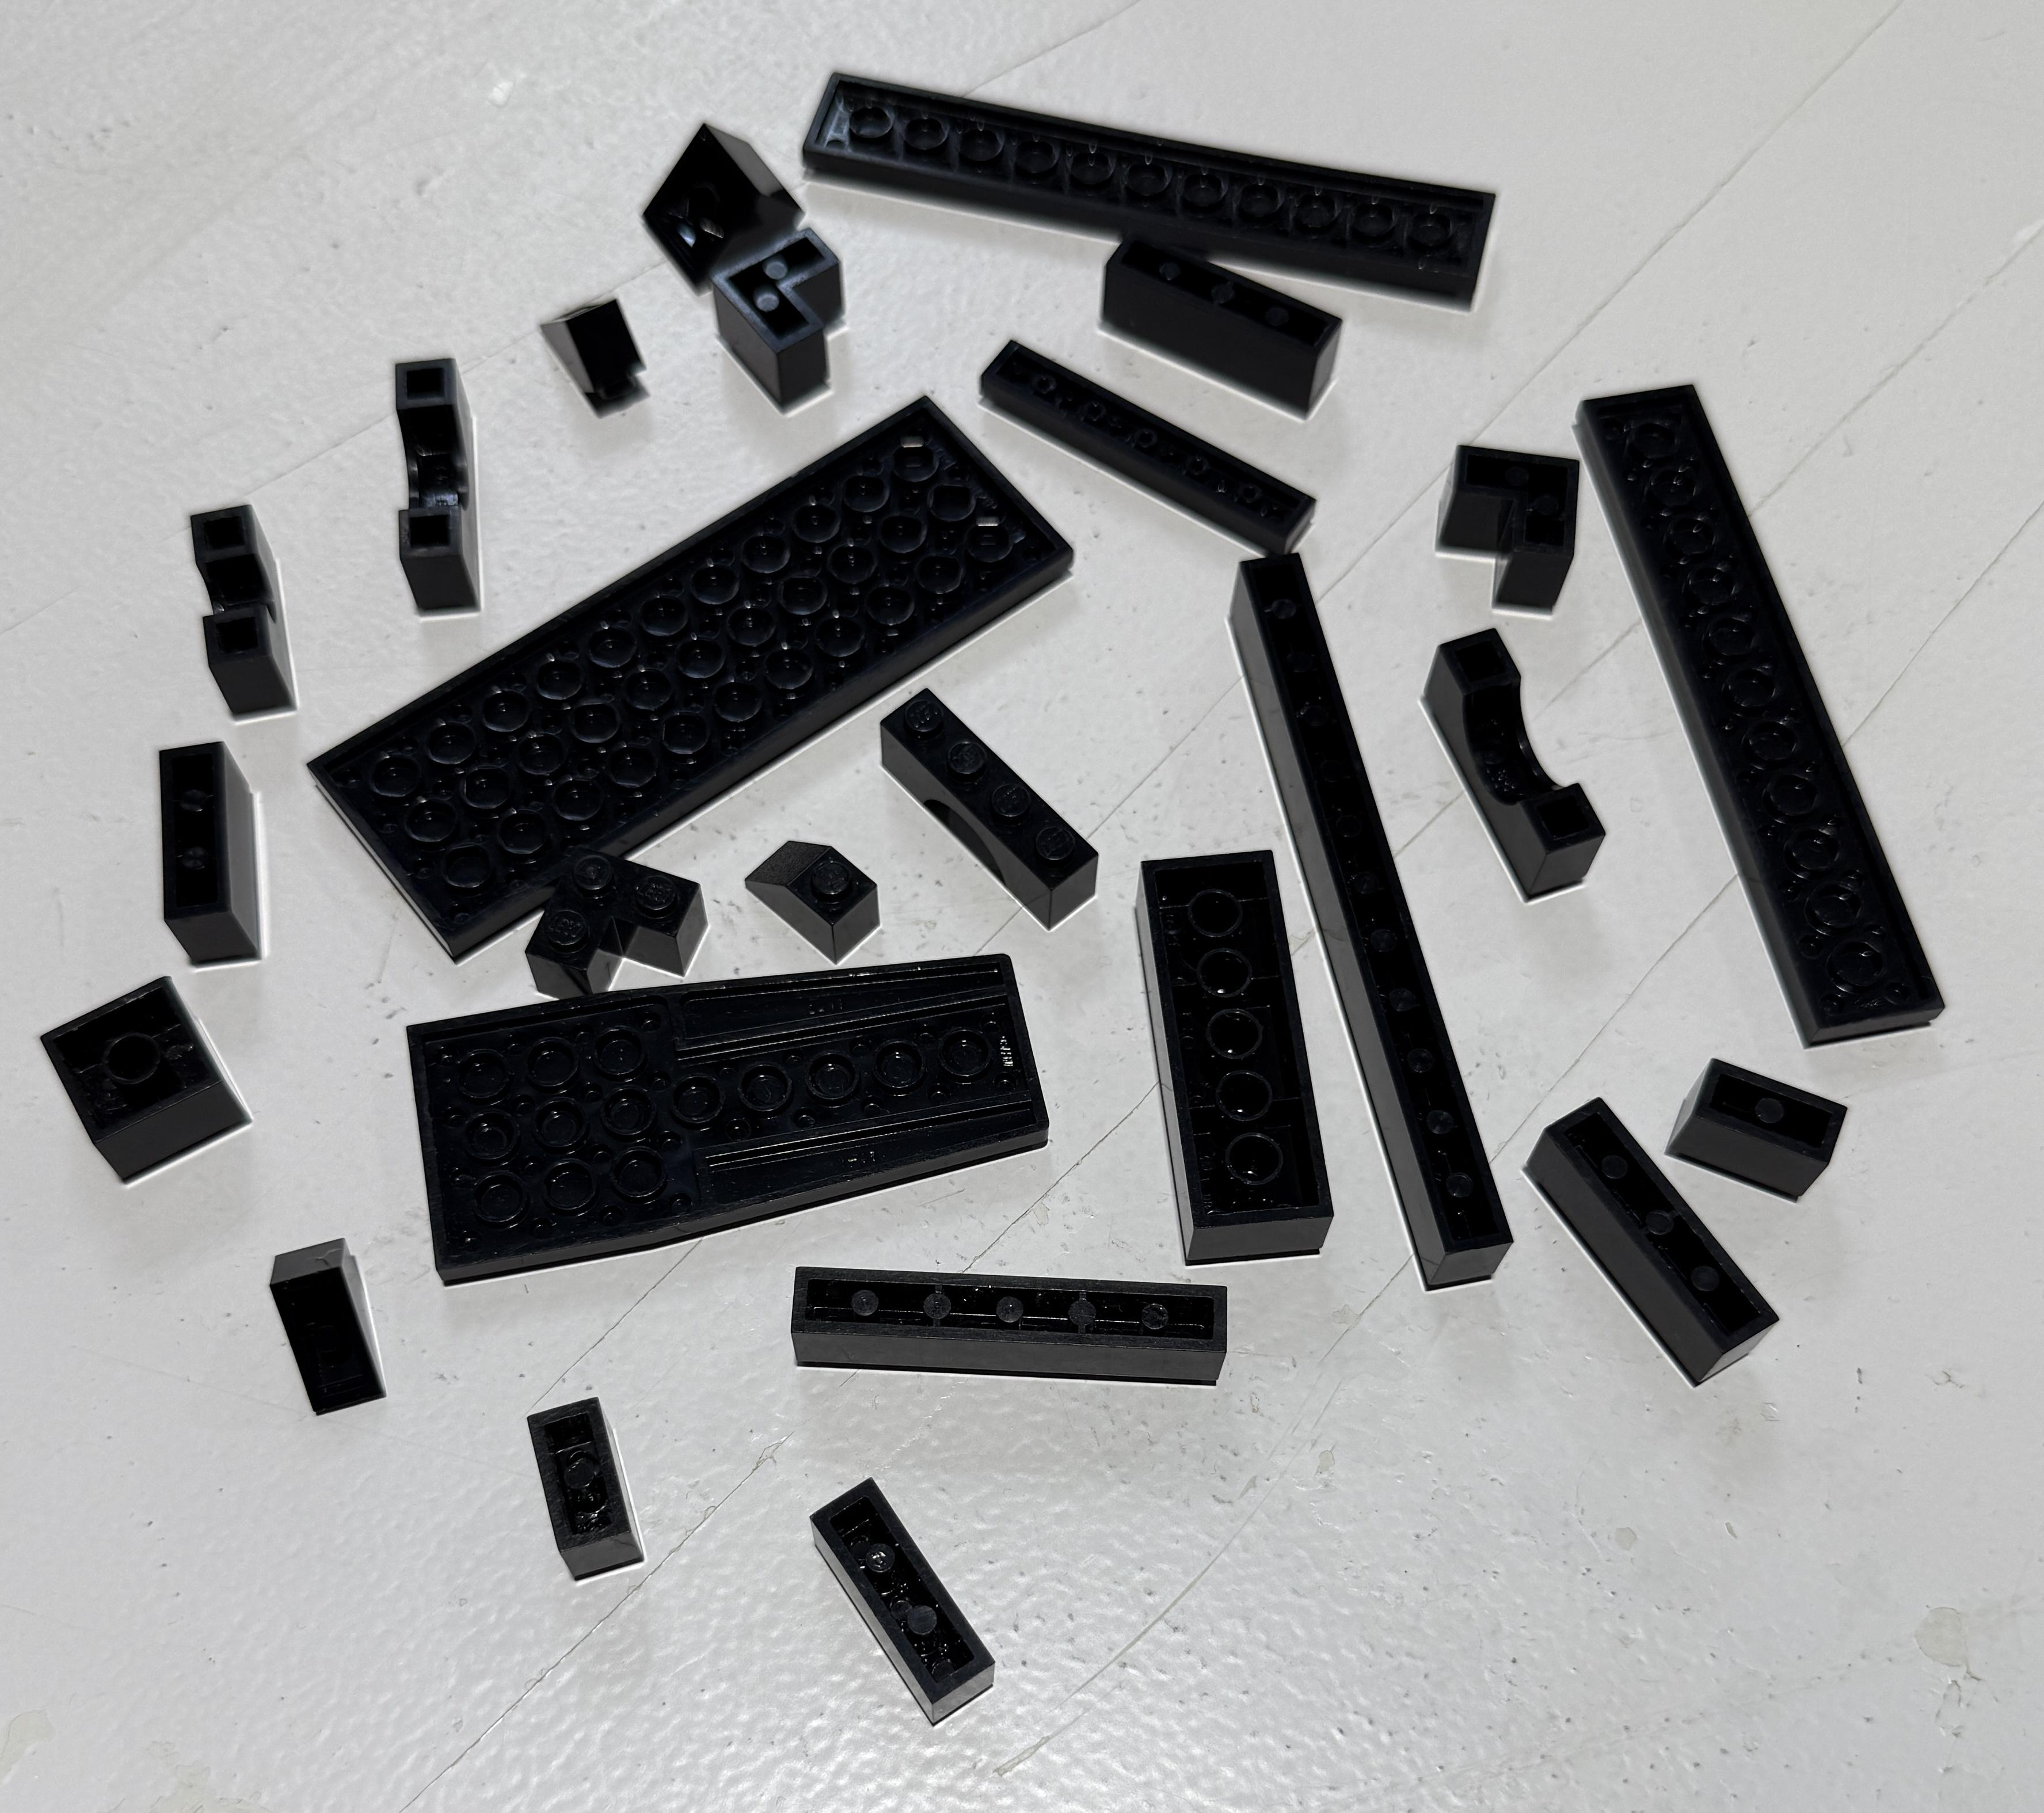brick_1x2: (1647, 1034, 1876, 1230), (506, 1363, 663, 1589)
brick_1x3: (798, 1452, 1032, 1745), (121, 714, 324, 1020)
brick_2x2: (26, 957, 273, 1213)
